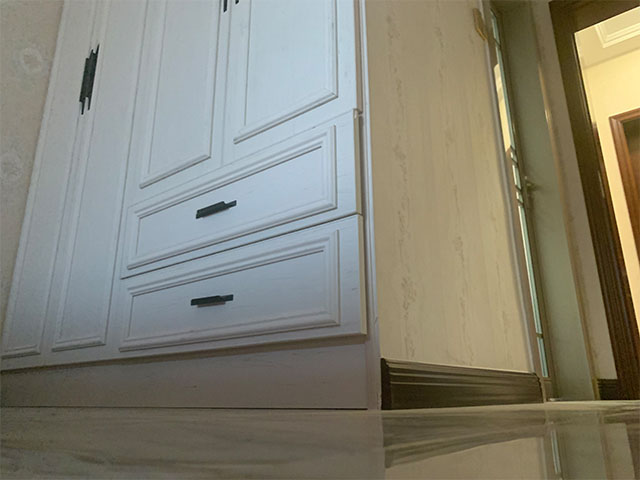cabinet: (1, 1, 543, 414)
